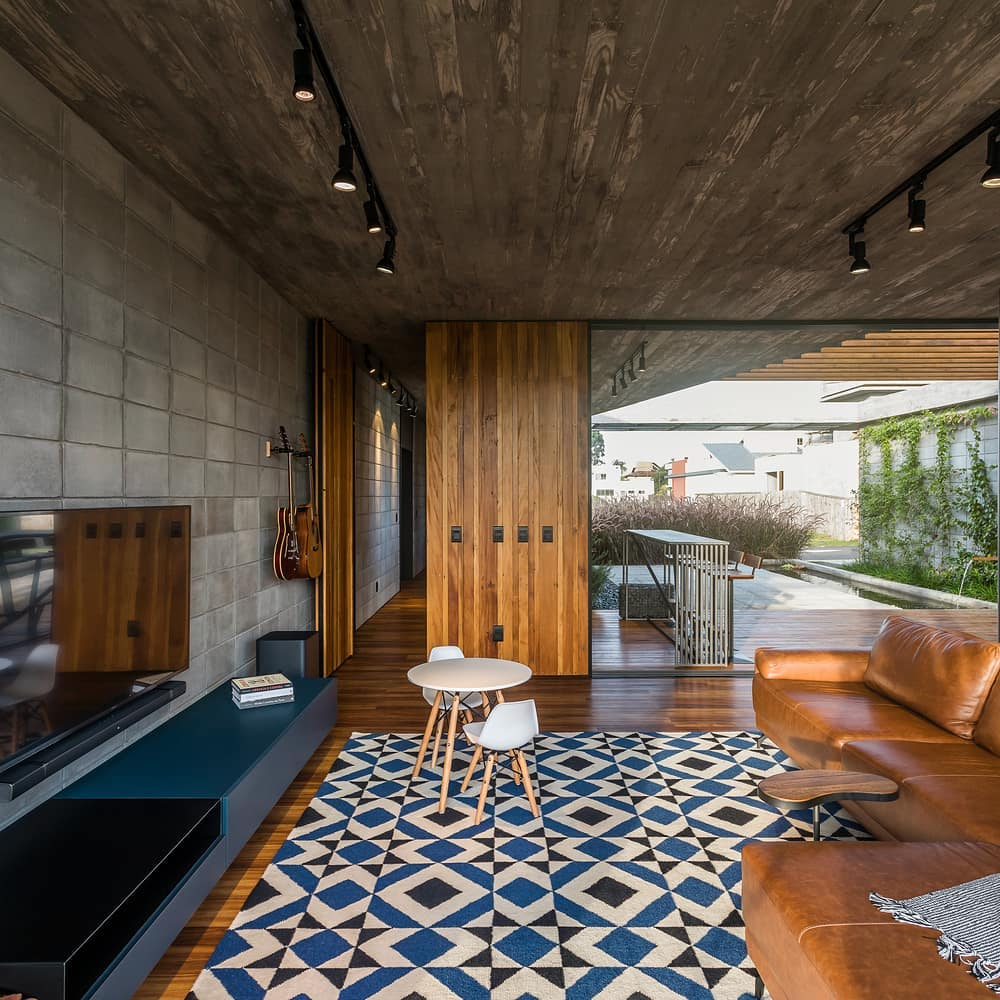buku: (226, 671, 298, 715)
kursi: (457, 706, 549, 824)
meja: (399, 658, 553, 815), (622, 526, 733, 666)
sova: (722, 615, 1000, 999)
tanaman: (863, 406, 1000, 589), (595, 490, 821, 546)
tv: (1, 500, 197, 744)
